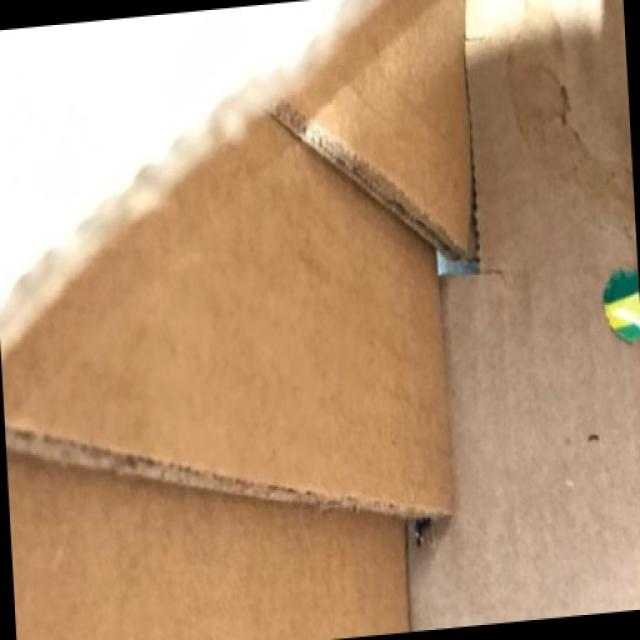carton: (19, 0, 640, 630)
